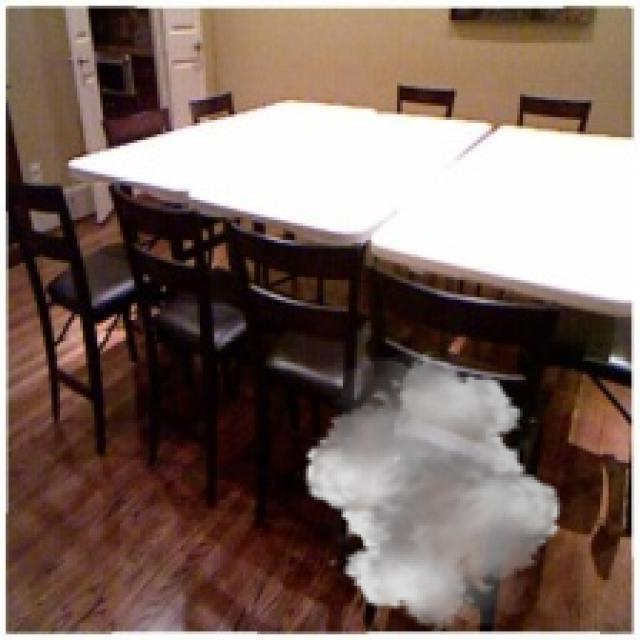Smoke: (294, 352, 572, 632)
